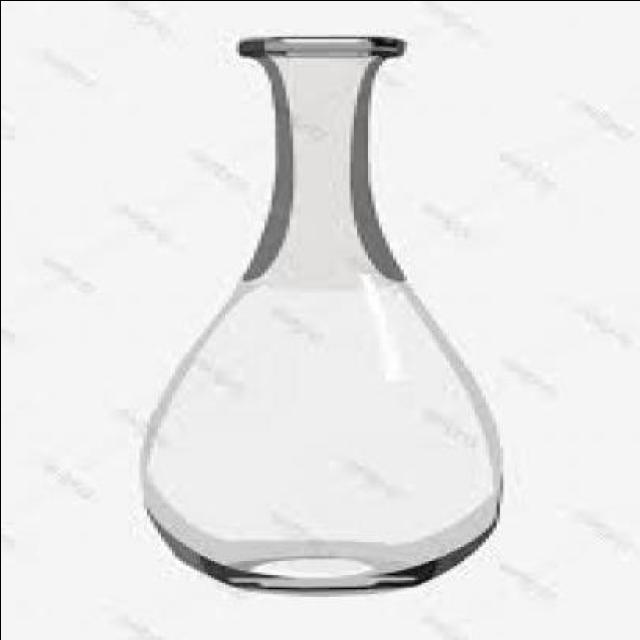kaca: (146, 32, 507, 588)
